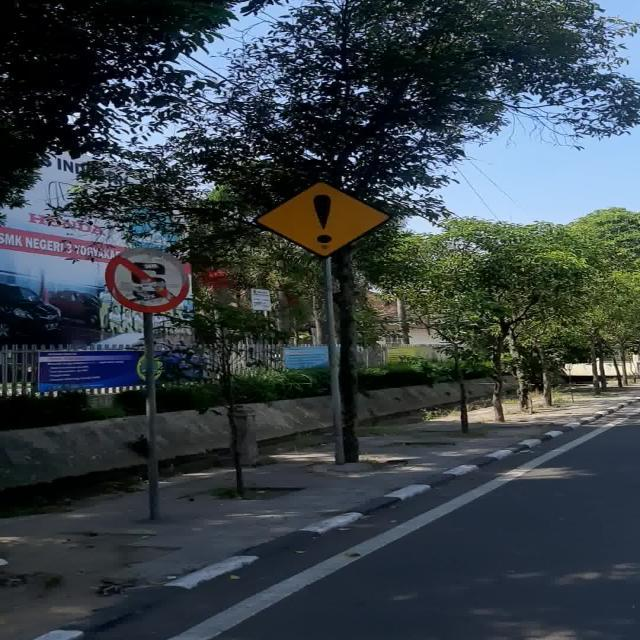Hati-Hati: (252, 180, 392, 258)
